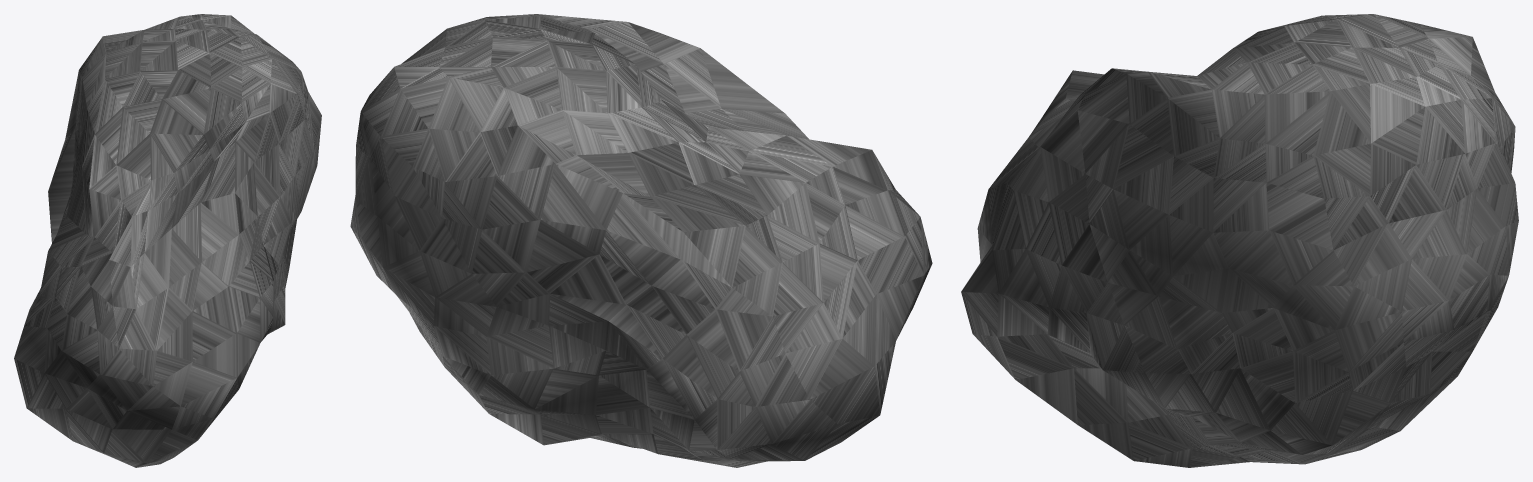
The model's file is asteroid2.obj.
The picture shows the model from 3 angles, left to right: view 1: azimuth 30°, elevation 25°; view 2: azimuth 150°, elevation 25°; view 3: azimuth 270°, elevation 25°; orthographic projection. The views are drawn at different scales.
Visible parts, largest first — view 1: asteroid; view 2: asteroid; view 3: asteroid.
Boxes of the visible parts, <box> form: asteroid: <box>14,14,321,467</box>; asteroid: <box>350,14,932,467</box>; asteroid: <box>961,14,1518,467</box>.
Size of the model in its own units: 49.35 by 49.71 by 50.06.
1 material, 1 textured.
